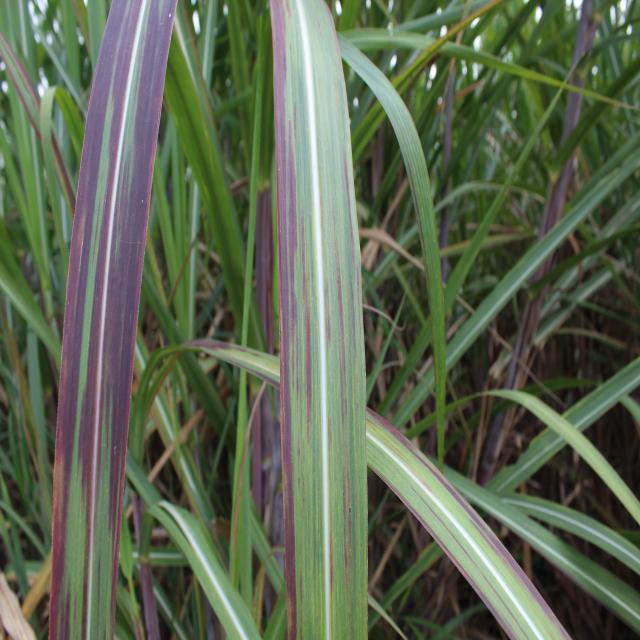Sugarcane: (49, 0, 175, 640), (265, 3, 368, 640), (367, 405, 573, 640)
